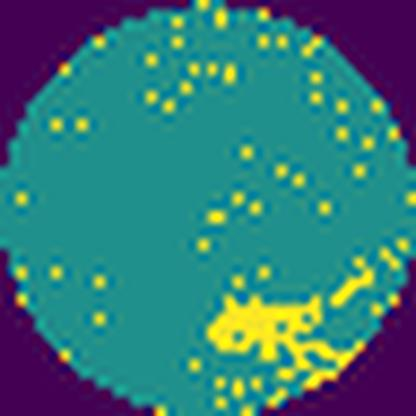Edge-Loc: (204, 293, 366, 394)
